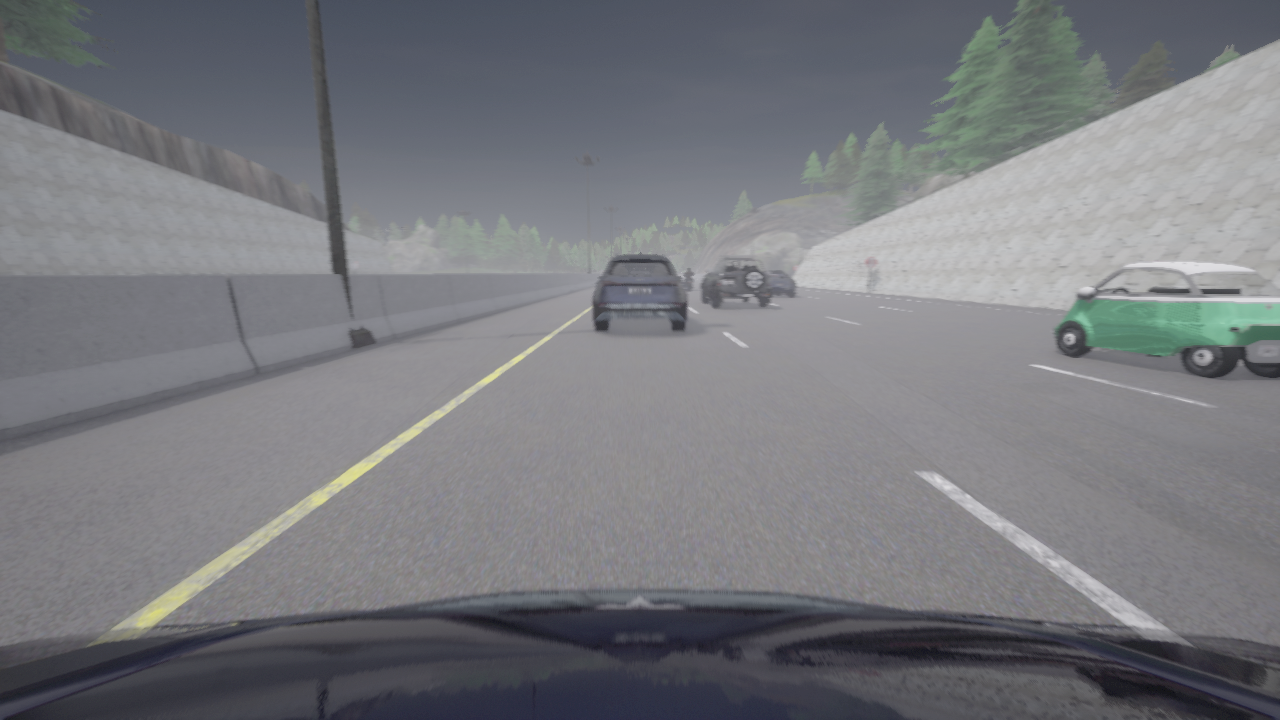cyclist: (0, 588, 1279, 719), (1054, 261, 1279, 377), (593, 253, 686, 331), (701, 255, 771, 307), (766, 270, 796, 296), (686, 278, 692, 290)
